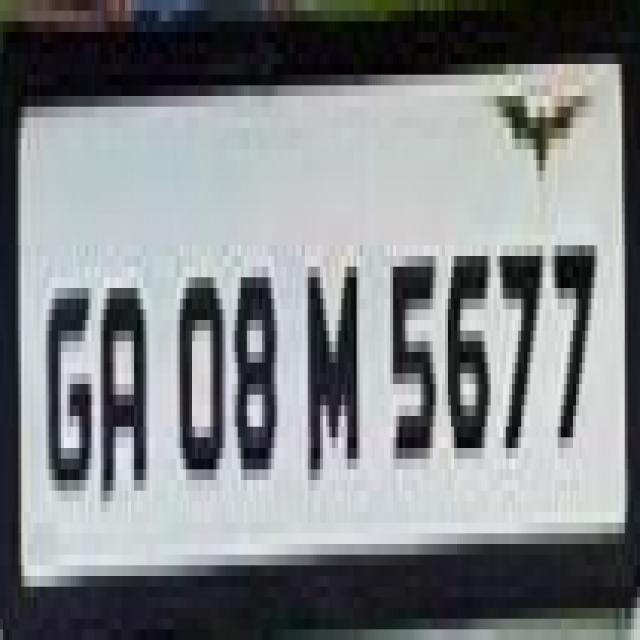0: (174, 269, 228, 482)
5: (388, 229, 439, 472)
6: (444, 232, 494, 469)
7: (496, 229, 544, 468), (550, 230, 597, 464)
8: (232, 264, 282, 478)
A: (95, 272, 151, 510)
G: (44, 274, 94, 498)
M: (300, 240, 362, 494)
